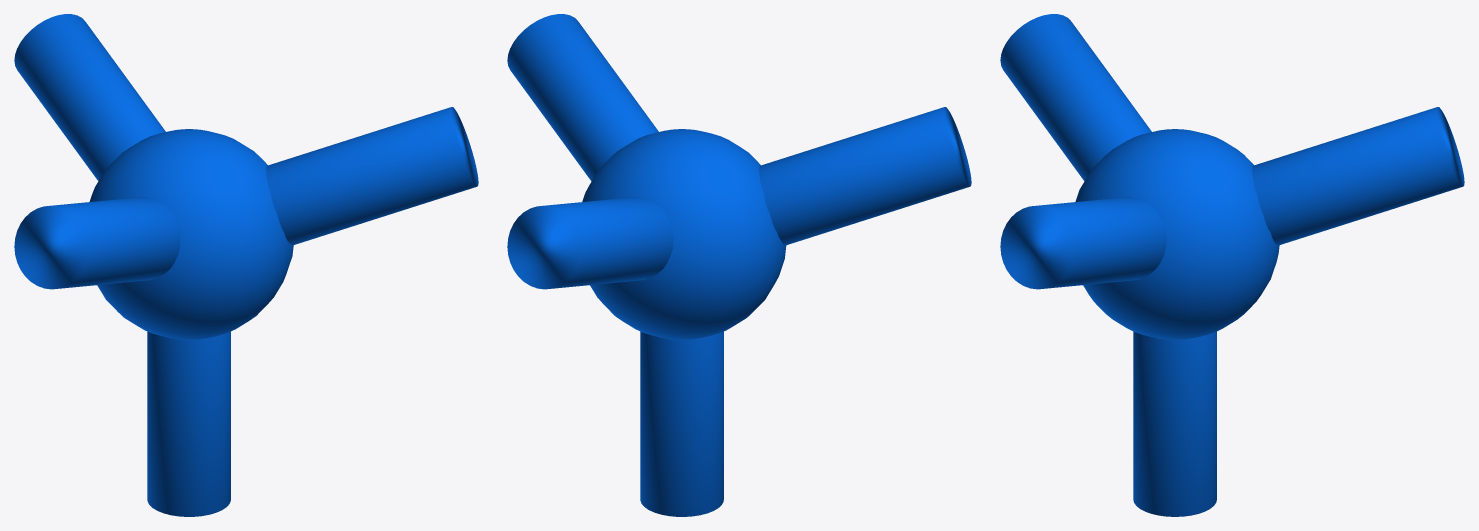
Rendered from Azote_tetra.dae.
3 views of the same model, side by side, from view 1: azimuth 30°, elevation 25°; view 2: azimuth 150°, elevation 25°; view 3: azimuth 270°, elevation 25° (orthographic).
Parts seen in each view (by area): view 1: Sphere, Valence4, Valence1, Valence2, Valence3; view 2: Sphere, Valence3, Valence1, Valence4, Valence2; view 3: Sphere, Valence2, Valence1, Valence3, Valence4.
Part boxes in pixels (left/top/right/bottom): Sphere: left=89, top=129, right=293, bottom=339; Valence4: left=266, top=107, right=478, bottom=245; Valence1: left=147, top=331, right=230, bottom=516; Valence2: left=14, top=14, right=165, bottom=180; Valence3: left=14, top=197, right=180, bottom=289; Sphere: left=582, top=129, right=786, bottom=339; Valence3: left=759, top=107, right=971, bottom=245; Valence1: left=640, top=331, right=723, bottom=516; Valence4: left=507, top=14, right=658, bottom=181; Valence2: left=507, top=197, right=673, bottom=289; Sphere: left=1075, top=129, right=1279, bottom=339; Valence2: left=1252, top=107, right=1464, bottom=245; Valence1: left=1133, top=331, right=1216, bottom=516; Valence3: left=1000, top=14, right=1151, bottom=181; Valence4: left=1000, top=197, right=1166, bottom=289.
Size of the model in its own units: 4.97 by 4.39 by 4.06.
